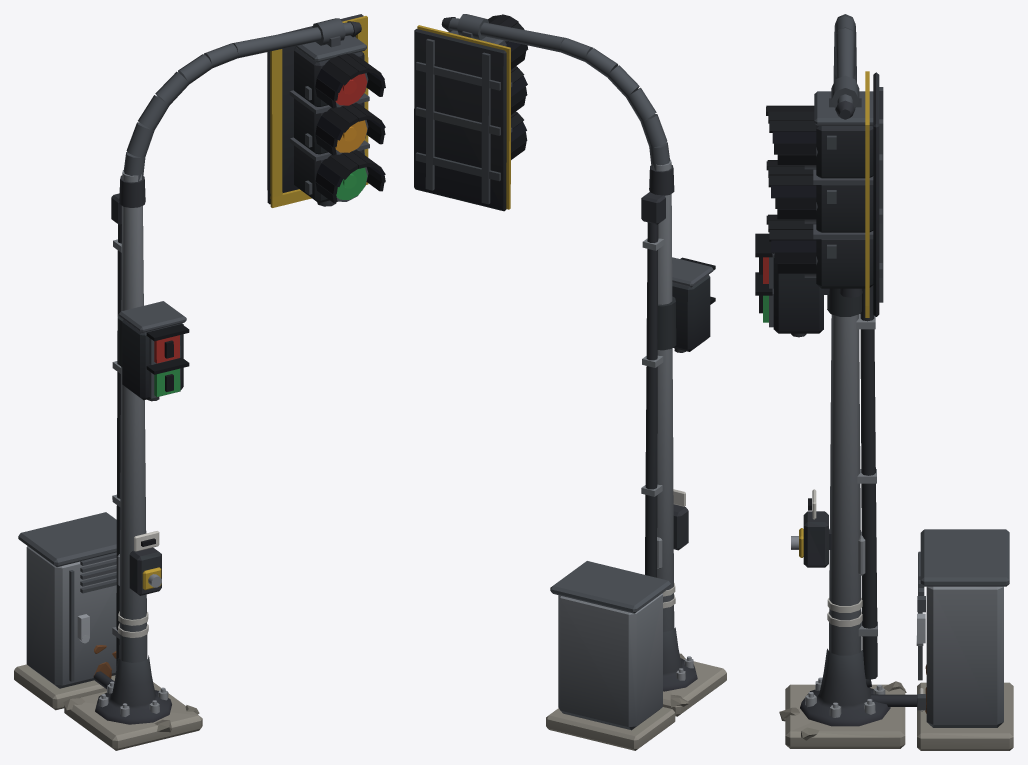
Rendered from hf-traffic-light.glb.
The picture shows the model from 3 angles, left to right: view 1: azimuth 30°, elevation 25°; view 2: azimuth 150°, elevation 25°; view 3: azimuth 270°, elevation 25°; orthographic projection. The views are drawn at different scales.
Parts seen in each view (by area): view 1: traffic_light_01; view 2: traffic_light_01; view 3: traffic_light_01.
Part boxes in pixels (x1,y1,x2,y2): traffic_light_01: (14,14,385,750); traffic_light_01: (414,14,726,750); traffic_light_01: (755,14,1013,750).
Size of the model in its own units: 2.01 by 4.3 by 1.34.
